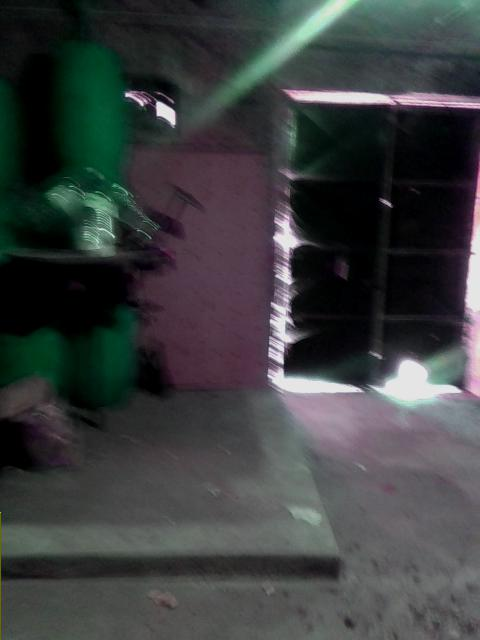closed_door: (266, 86, 479, 389)
